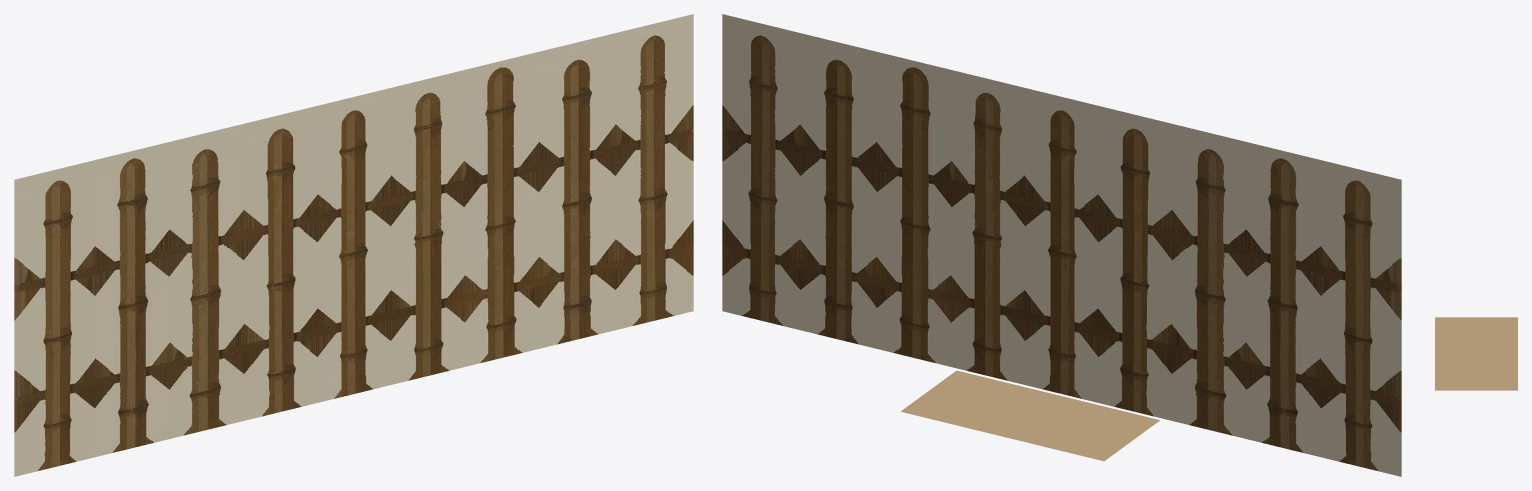
The model's file is toad-prop-fence-run-l.glb.
The picture shows the model from 3 angles, left to right: view 1: azimuth 30°, elevation 25°; view 2: azimuth 150°, elevation 25°; view 3: azimuth 270°, elevation 25°; orthographic projection. The views are drawn at different scales.
Visible parts, largest first — view 1: fence-run-l; view 2: fence-run-l; view 3: fence-run-l.
Part boxes in pixels (x1=…): fence-run-l: x1=14, y1=14, x2=693, y2=476; fence-run-l: x1=722, y1=14, x2=1401, y2=476; fence-run-l: x1=1435, y1=317, x2=1517, y2=390.
Size of the model in its own units: 0.23 by 0.0961 by 0.035.
1 material, 1 textured.
